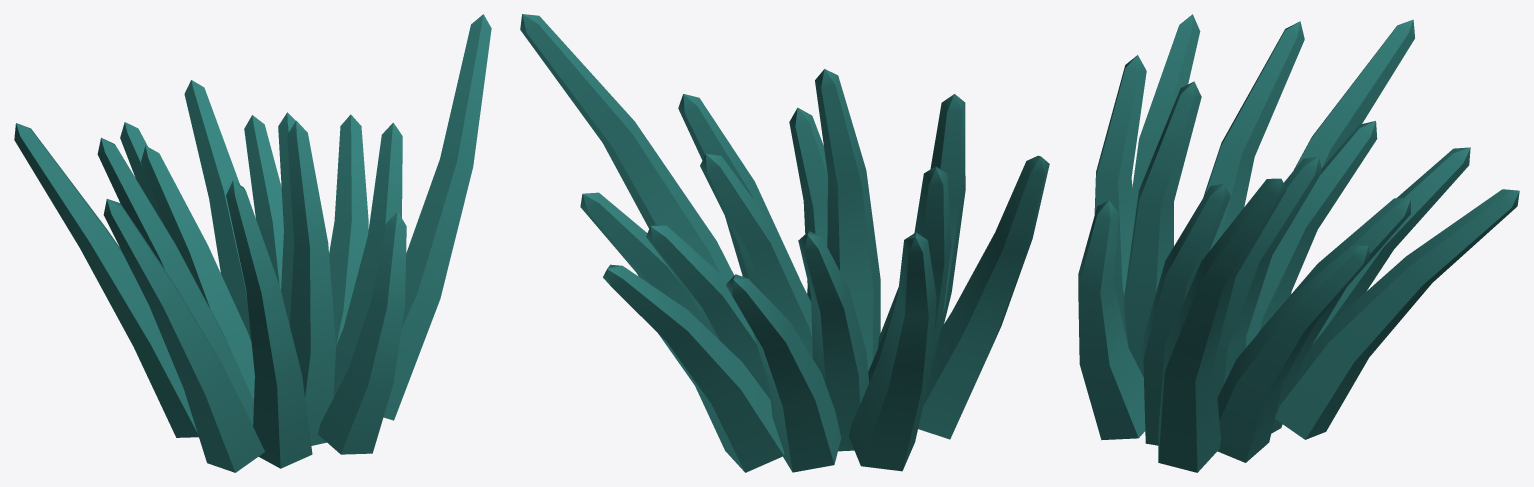
Rendered from crest_fur.glb.
3 views of the same model, side by side, from view 1: azimuth 30°, elevation 25°; view 2: azimuth 150°, elevation 25°; view 3: azimuth 270°, elevation 25° (orthographic). The views are drawn at different scales.
Parts seen in each view (by area): view 1: crest_fur; view 2: crest_fur; view 3: crest_fur.
Part boxes in pixels (bbox=[...]): crest_fur: bbox=[14, 14, 491, 472]; crest_fur: bbox=[520, 14, 1049, 472]; crest_fur: bbox=[1078, 14, 1519, 472].
Bounding box in the file's own units: 0.4749 × 0.3611 × 0.3912.
